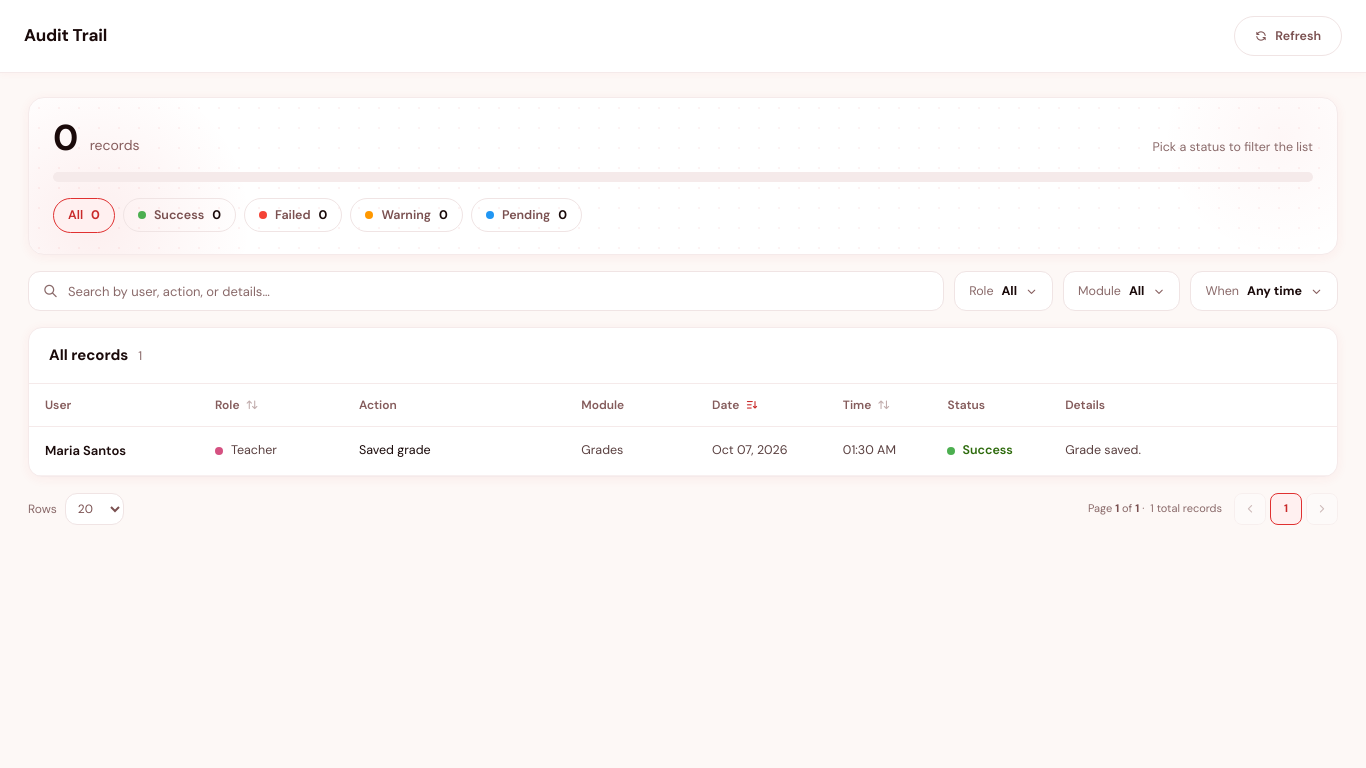
Scenario: Audit trail — band › counts how the records went, and filters by it
This screenshot has width=1366, height=768.
expect the text "Maria Santos" is shown: met, box top-left (45, 442), bottom-right (126, 459)
expect the button with aria-label "All 1,204" is shown: met, box top-left (53, 198), bottom-right (115, 232)
What coordinates should you click on to do the following:
click the button with aria-label "Failed 24"
I would click on:
 (293, 215)
Its box is top-left (244, 198), bottom-right (342, 232).
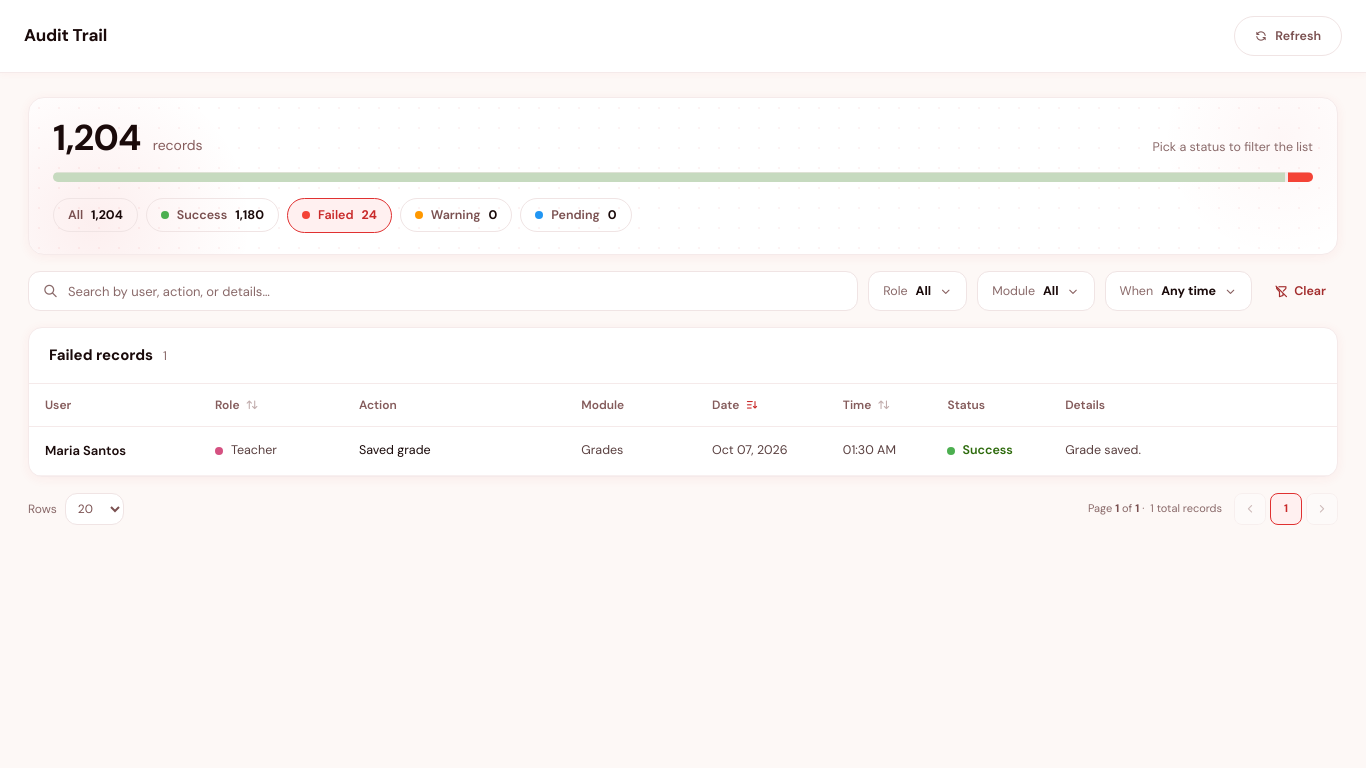
expect the heading "Failed records" is shown: met, box top-left (49, 344), bottom-right (153, 367)
